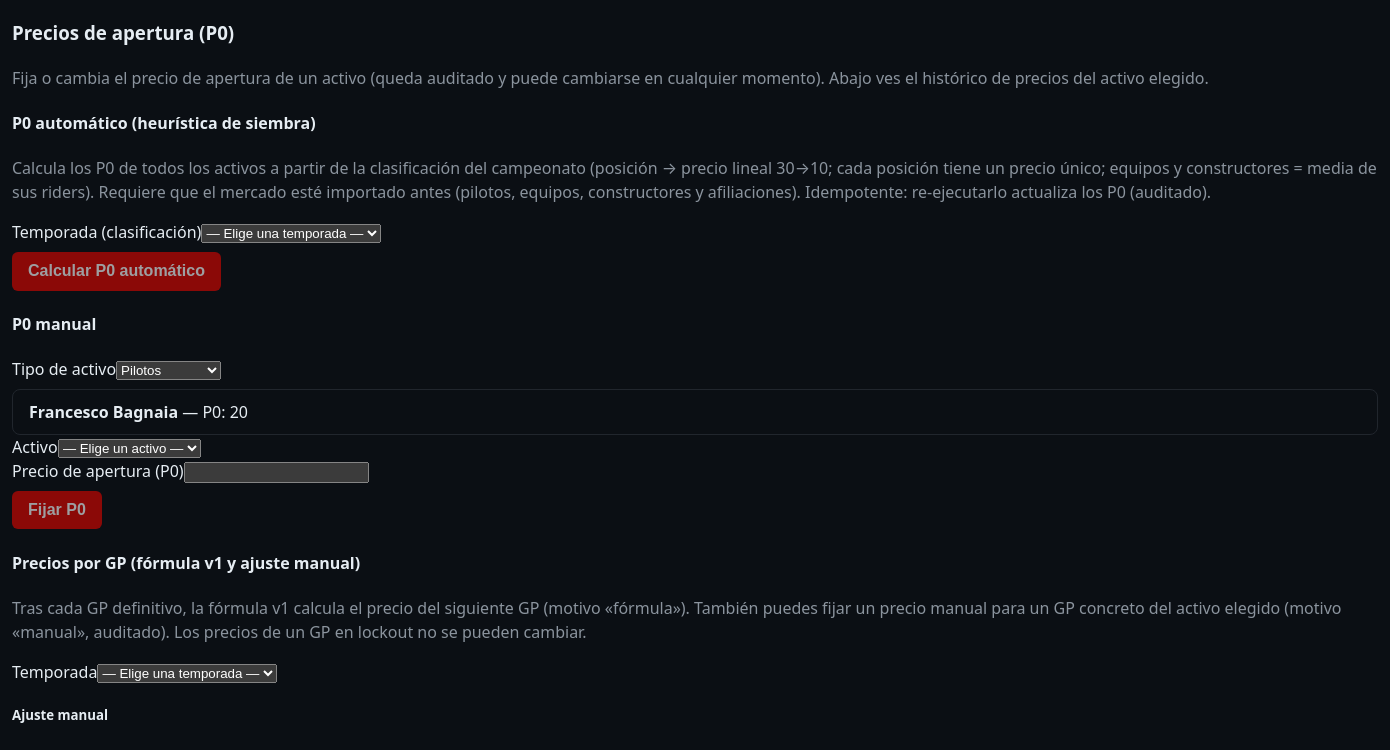
Test: PricesPanel › muestra el histórico del activo elegido (P0 → ronda)
Select "Francesco Bagnaia" in the dropdown labelled "Activo": (129, 448) [58,438,201,458]
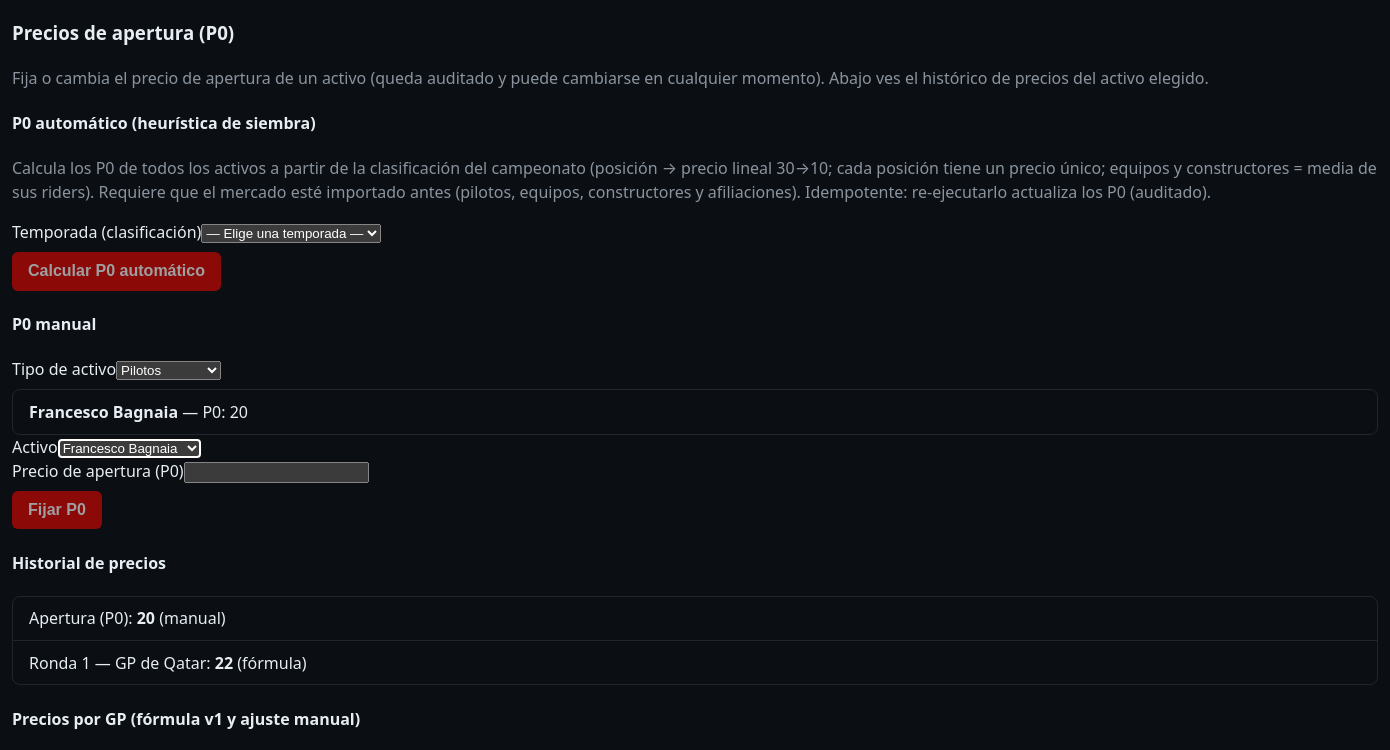
Expected: the heading "Historial de precios" is shown, [12,552,166,574]
Expected: the list item "Apertura (P0): 20 (manual)" is shown, [13,597,1377,641]
Expected: the list item "Ronda 1 — GP de Qatar: 22 (fórmula)" is shown, [29,652,307,674]
